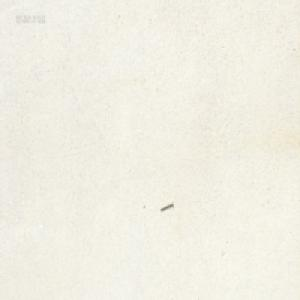Bolt: (159, 202, 173, 212)
